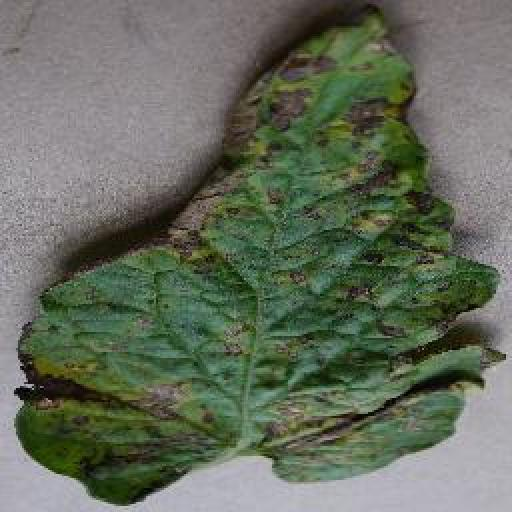Early Blight: (13, 2, 504, 510)
